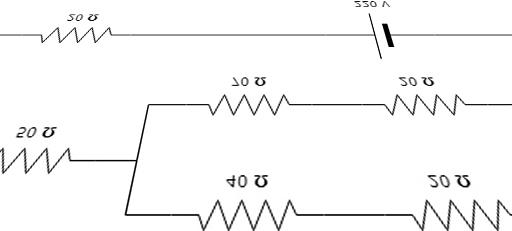resistor: (188, 187, 300, 230), (403, 190, 511, 230), (29, 12, 122, 58), (379, 86, 472, 123), (203, 88, 297, 122), (0, 140, 80, 177)
